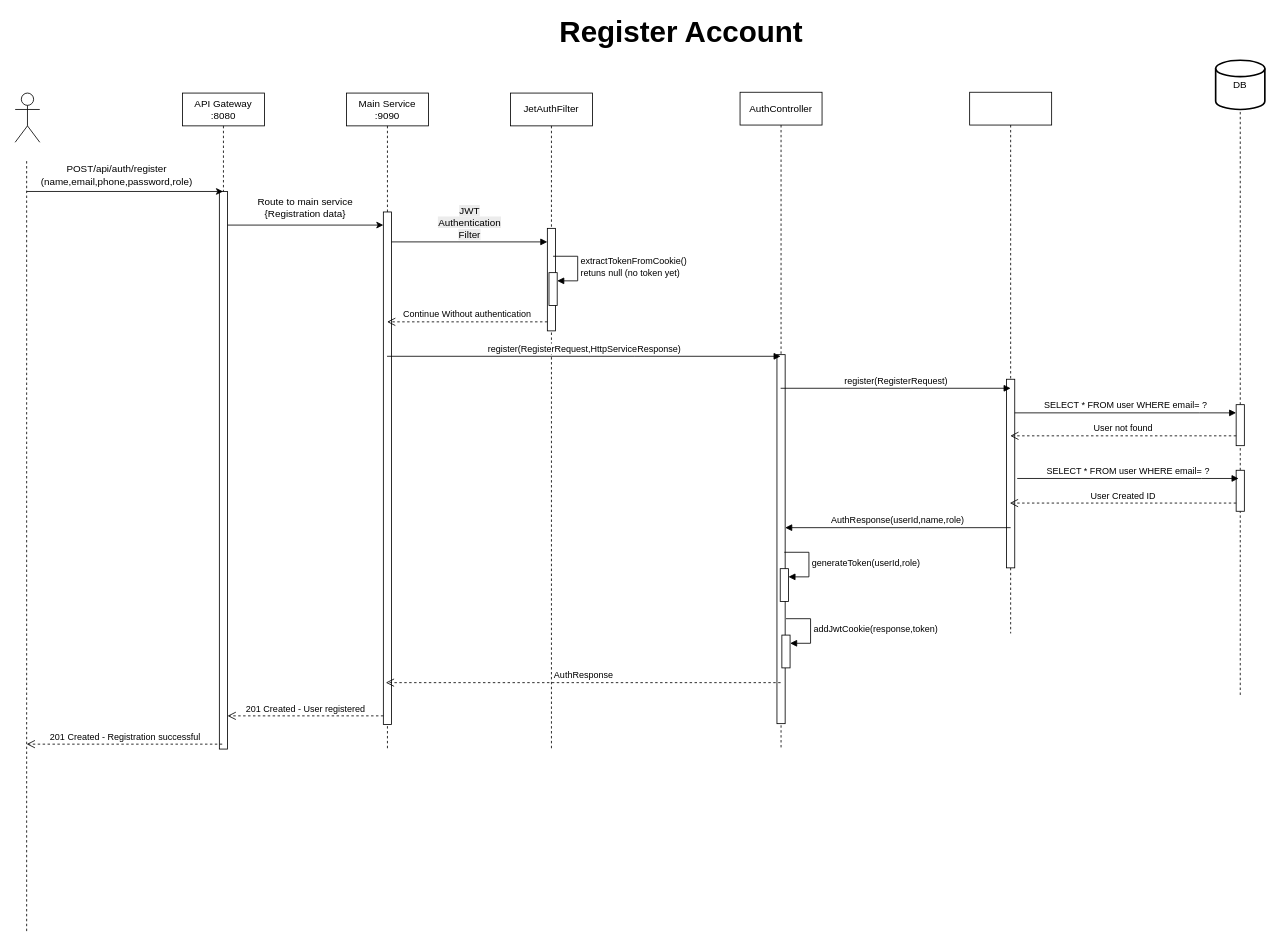
This 1280x946 diagram has some shape labels left out. Each missing label, with the centre of its shape:
Authservice: point 1010,362
USER: point 27,117
